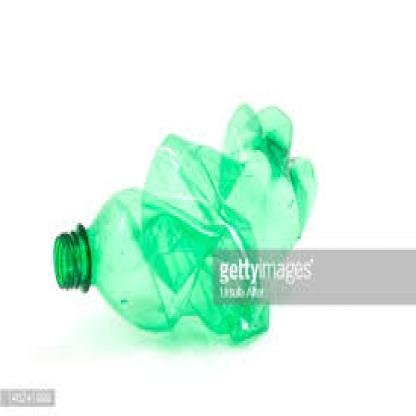Plastic: (43, 75, 332, 357)
